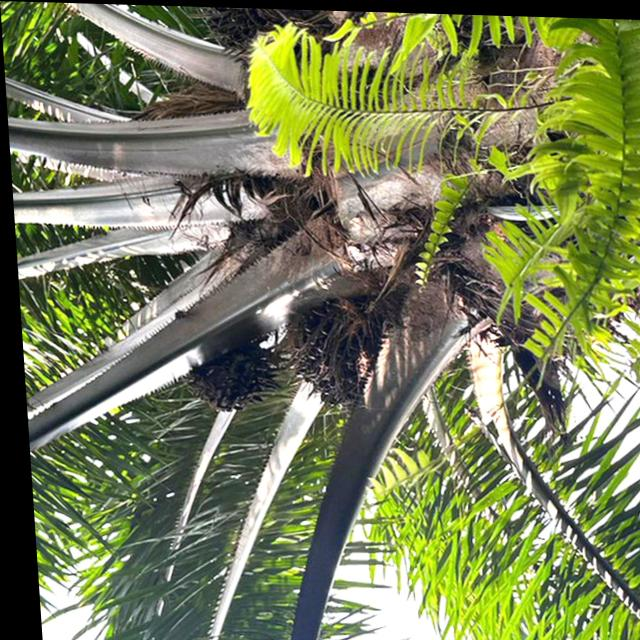ripe: (263, 278, 388, 415)
